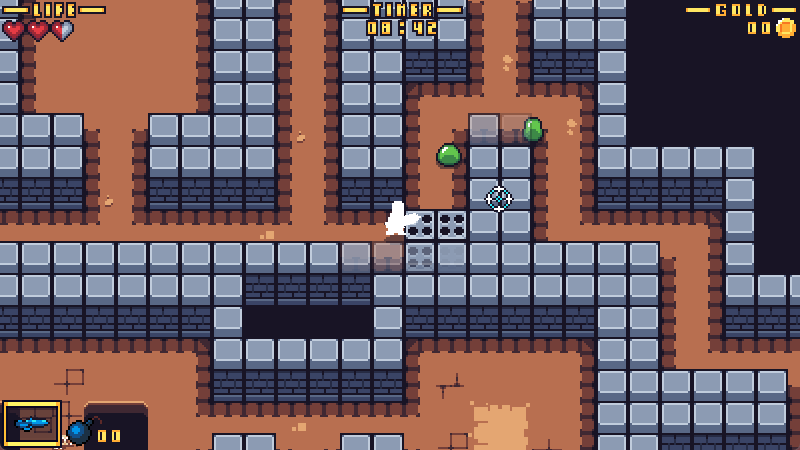aim: (485, 186, 515, 213)
bomb_counter_0: (65, 414, 123, 447)
enemy_slug: (436, 141, 462, 167), (521, 117, 544, 144)
gold_counter: (684, 1, 800, 39)
health-1: (3, 19, 77, 42)
player_hit: (384, 200, 419, 237)
timer: (339, 1, 463, 38)
trap_off: (405, 211, 468, 272)
